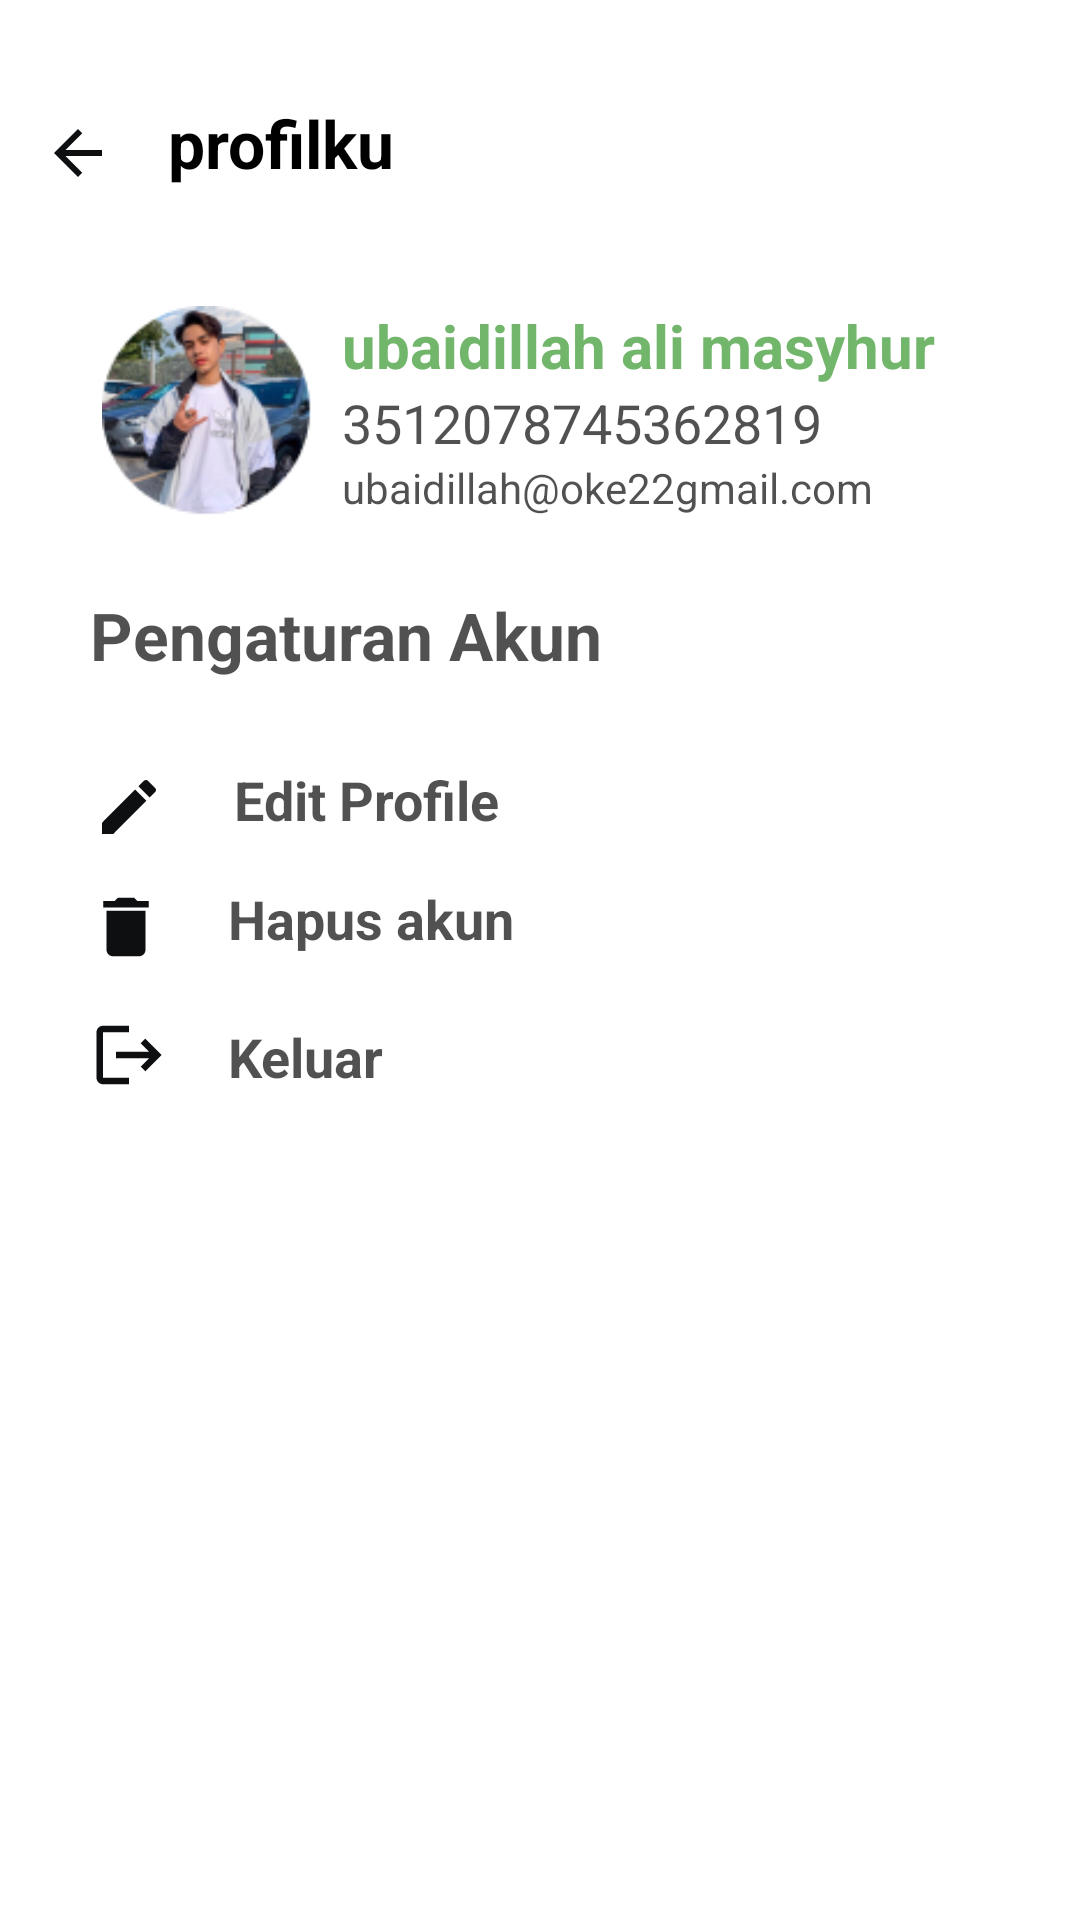

Named icons in this screenshot (1080px x 1920px) and their bounding boxes, (x1, y1, x2, y2):
delete: (103, 897, 149, 957)
kembali: (54, 129, 102, 177)
profile foto: (102, 306, 311, 514)
